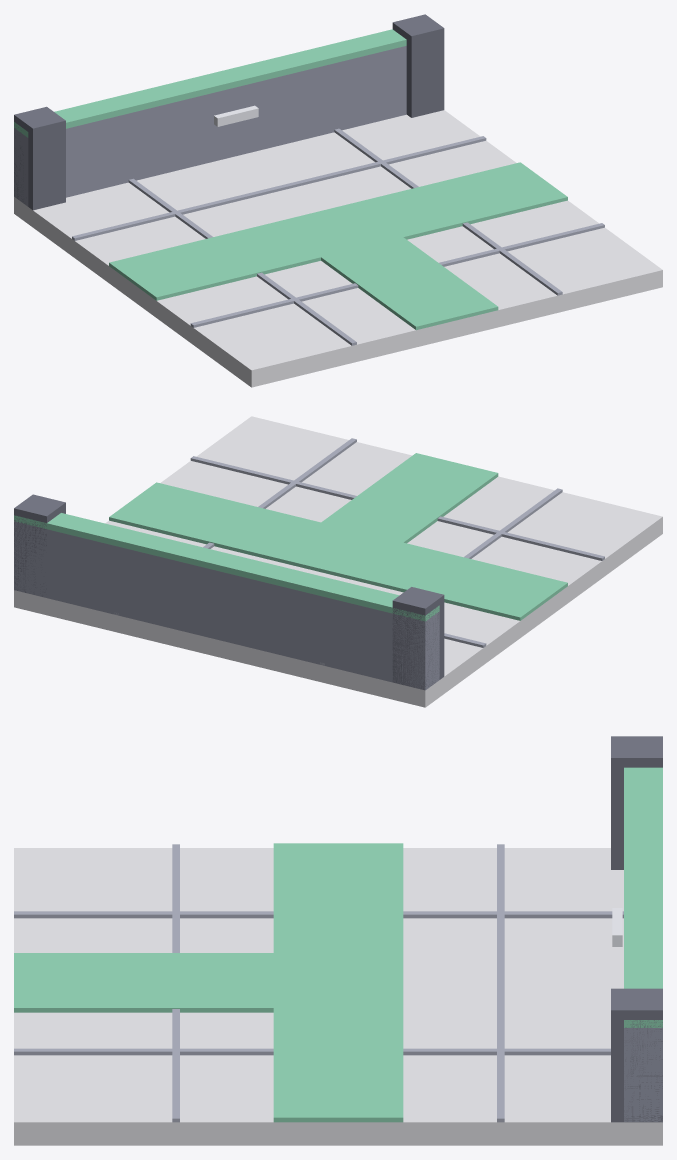
Rendered from walkway-1x1-intersection.glb.
3 views of the same model, one above another, from view 1: azimuth 30°, elevation 25°; view 2: azimuth 150°, elevation 25°; view 3: azimuth 270°, elevation 25° (orthographic). The views are drawn at different scales.
Visible parts, largest first — view 1: walkway-1x1-intersection; view 2: walkway-1x1-intersection; view 3: walkway-1x1-intersection.
Part boxes in pixels (x1,y1,x2,y2): walkway-1x1-intersection: (14,14,662,387); walkway-1x1-intersection: (14,416,662,707); walkway-1x1-intersection: (14,736,662,1145).
Size of the model in its own units: 1 by 0.23 by 1.
Materials: 1 (1 with a texture image).
